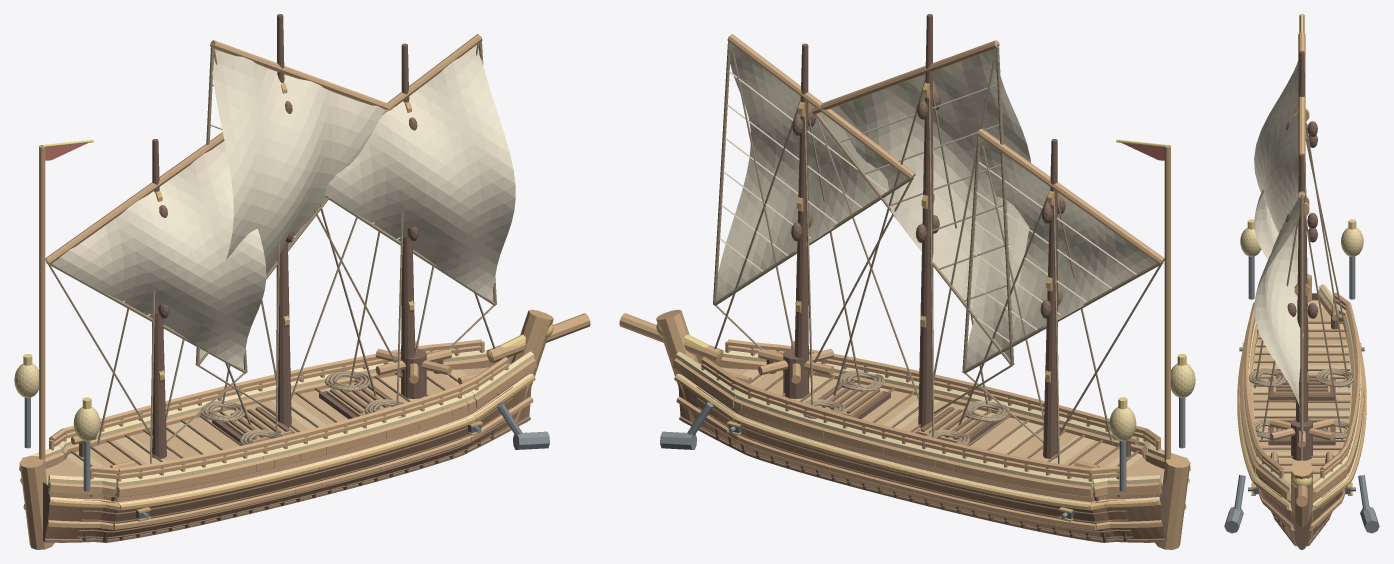
File: caravel-v5.glb
3 views of the same model, side by side, from view 1: azimuth 30°, elevation 25°; view 2: azimuth 150°, elevation 25°; view 3: azimuth 270°, elevation 25° (orthographic). The views are drawn at different scales.
Parts seen in each view (by area): view 1: caravel_sails_sail, caravel_hull_wood, caravel_railings_wood, caravel_hull_pale, caravel_masts_darkwood, caravel_hull_seam, caravel_hull_hull2, caravel_hull_hull, caravel_rigging_rope, caravel_hull_deck, caravel_rigging_wood, caravel_hull_bronze (+11 smaller); view 2: caravel_sails_sail, caravel_hull_wood, caravel_masts_darkwood, caravel_rigging_rope, caravel_railings_wood, caravel_hull_pale, caravel_hull_seam, caravel_hull_hull2, caravel_rigging_wood, caravel_hull_hull, caravel_hull_deck, caravel_masts_rope (+13 smaller); view 3: caravel_sails_sail, caravel_hull_wood, caravel_hull_deck, caravel_masts_darkwood, caravel_railings_wood, caravel_hull_seam, caravel_hull_pale, caravel_hull_decklight, caravel_masts_rope, caravel_fittings_iron, caravel_fittings_darkwood, caravel_fittings_wood (+11 smaller).
Boxes of the visible parts, x1,y1,x2,y2 form: caravel_sails_sail: (52, 45, 515, 368); caravel_hull_wood: (19, 309, 590, 549); caravel_railings_wood: (49, 339, 508, 491); caravel_hull_pale: (21, 349, 534, 509); caravel_masts_darkwood: (151, 14, 418, 458); caravel_hull_seam: (44, 372, 530, 542); caravel_hull_hull2: (45, 373, 530, 539); caravel_hull_hull: (43, 383, 531, 541); caravel_rigging_rope: (46, 36, 496, 442); caravel_hull_deck: (45, 367, 488, 478); caravel_rigging_wood: (45, 34, 482, 264); caravel_hull_bronze: (20, 375, 535, 510); caravel_sails_sail: (716, 41, 1156, 368); caravel_hull_wood: (619, 309, 1190, 549); caravel_masts_darkwood: (791, 14, 1065, 458); caravel_rigging_rope: (713, 36, 1163, 442); caravel_railings_wood: (701, 339, 1160, 491); caravel_hull_pale: (675, 349, 1188, 509); caravel_hull_seam: (679, 372, 1165, 542); caravel_hull_hull2: (679, 373, 1164, 539); caravel_rigging_wood: (727, 34, 1164, 264); caravel_hull_hull: (678, 383, 1166, 541); caravel_hull_deck: (721, 367, 1164, 478); caravel_masts_rope: (804, 91, 1112, 474); caravel_sails_sail: (1254, 60, 1304, 412); caravel_hull_wood: (1240, 274, 1363, 539); caravel_hull_deck: (1252, 307, 1351, 482); caravel_masts_darkwood: (1286, 50, 1317, 422); caravel_railings_wood: (1243, 292, 1360, 478); caravel_hull_seam: (1253, 321, 1350, 546); caravel_hull_pale: (1240, 284, 1363, 510); caravel_hull_decklight: (1252, 300, 1351, 480); caravel_masts_rope: (1254, 122, 1349, 439); caravel_fittings_iron: (1224, 256, 1379, 533); caravel_fittings_darkwood: (1268, 313, 1339, 463); caravel_fittings_wood: (1269, 306, 1338, 463).
Size of the model in its own units: 40.06 by 32.13 by 11.21.
